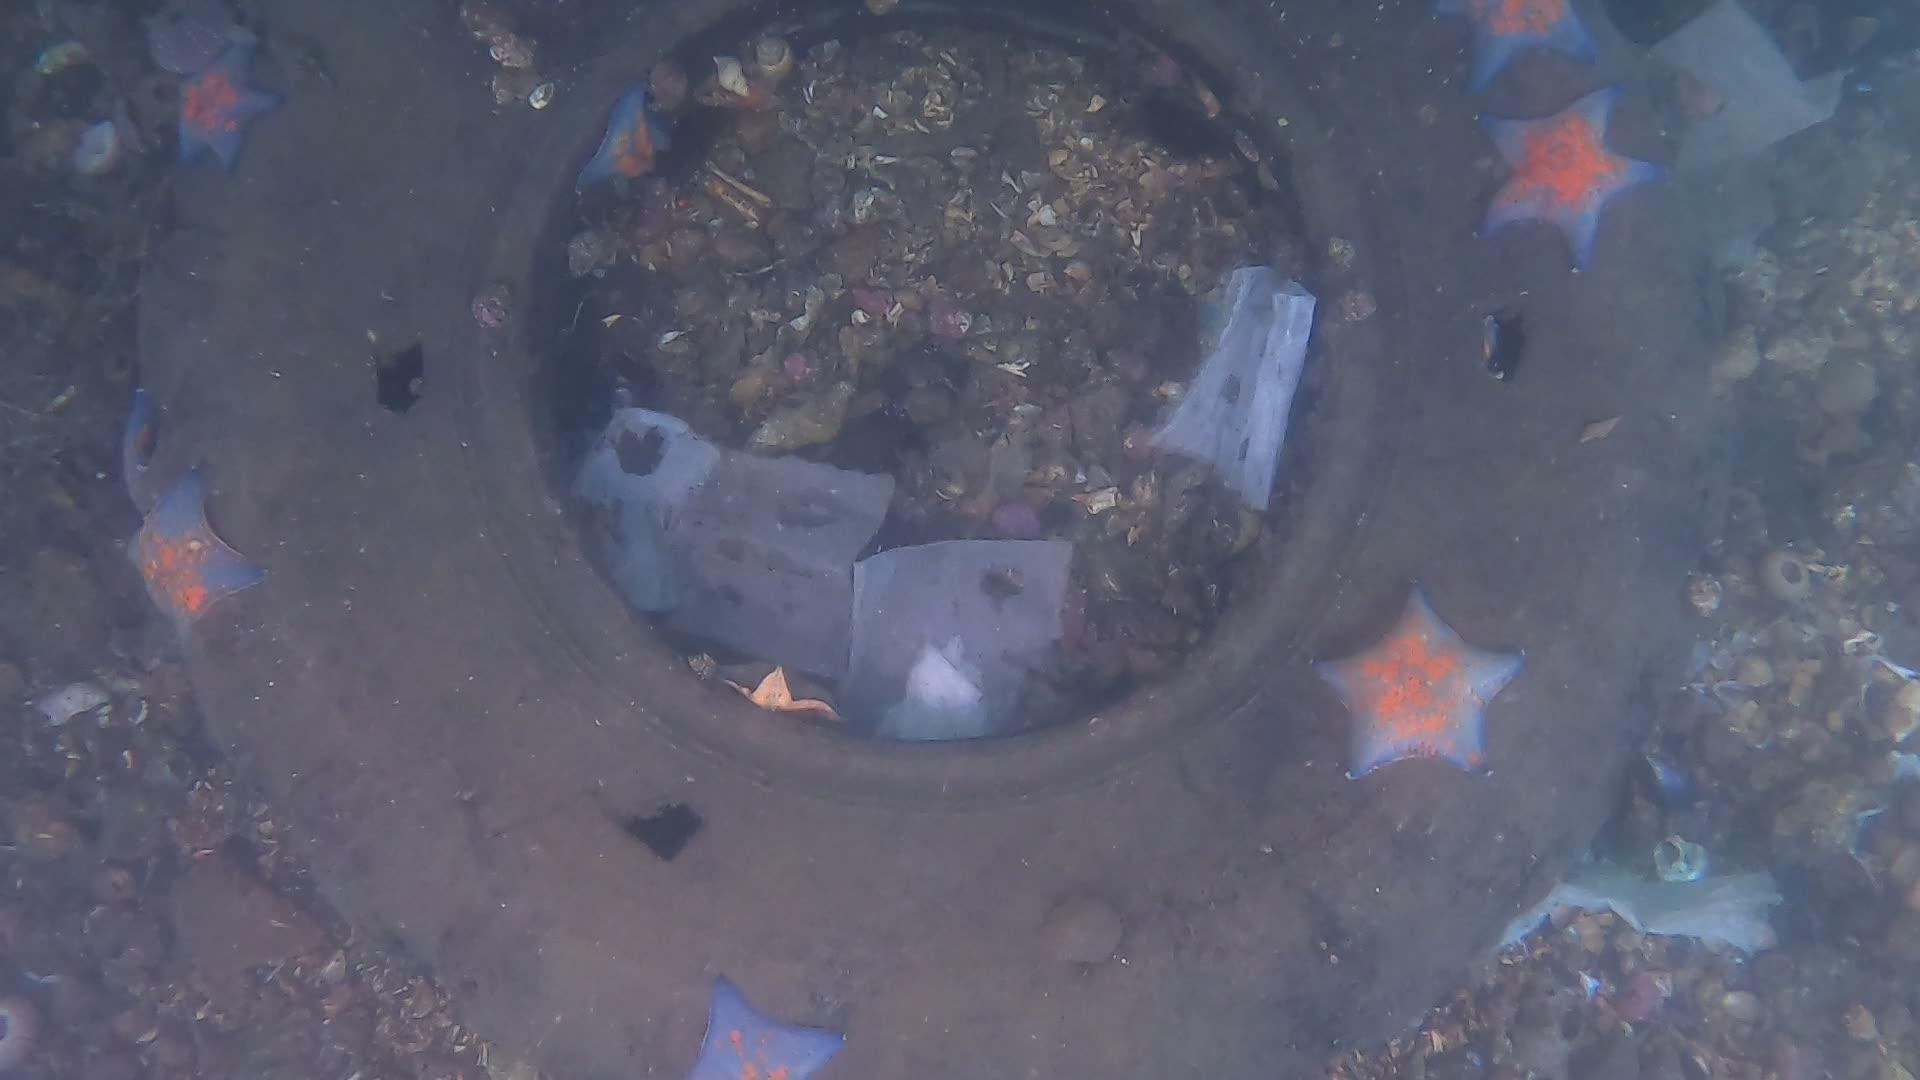tire: (156, 0, 1714, 1080)
